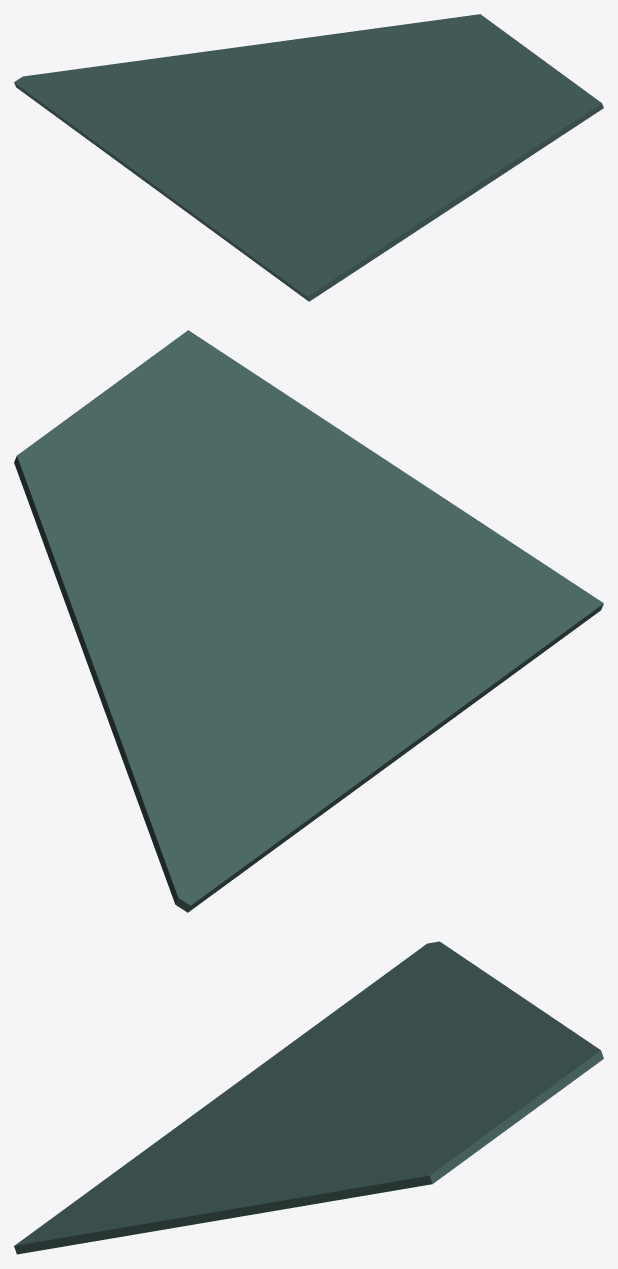
3 renders of one model, top to bottom at view 1: azimuth 30°, elevation 25°; view 2: azimuth 150°, elevation 25°; view 3: azimuth 330°, elevation 25°, orthographic. The views are drawn at different scales.
Visible parts, largest first — view 1: A-ROOF-1-1; view 2: A-ROOF-1-1; view 3: A-ROOF-1-1.
Part boxes in pixels (box(x1,y1,x2,y2)): A-ROOF-1-1: box(14, 14, 603, 301); A-ROOF-1-1: box(14, 330, 603, 912); A-ROOF-1-1: box(14, 941, 603, 1254).
Size of the model in its own units: 5.51 by 2.26 by 9.42.
